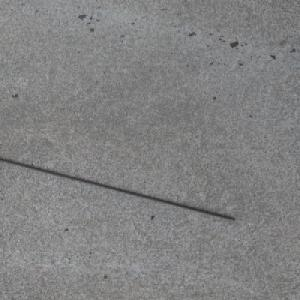LuggagePart: (0, 156, 236, 221)
